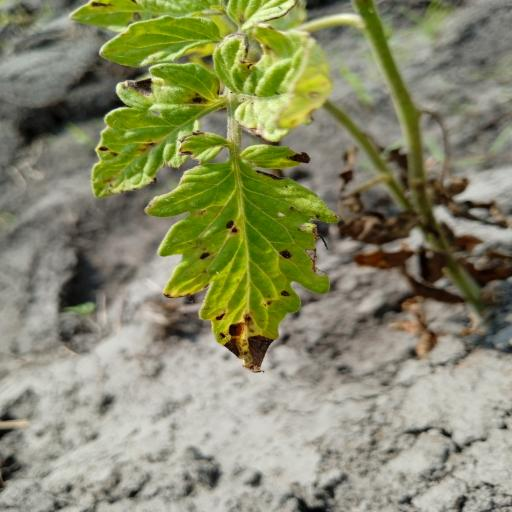Tomato_Brown_Spots: (146, 138, 344, 377)
